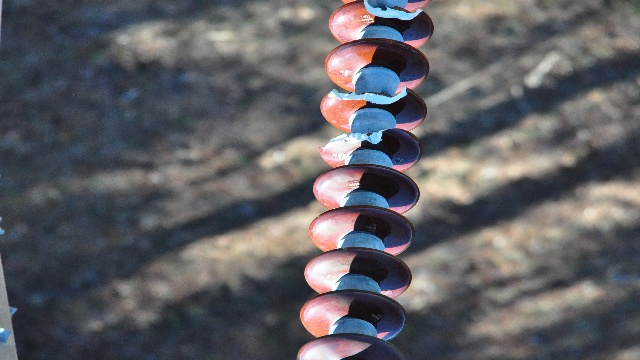broken_local: (315, 128, 394, 149), (328, 86, 413, 104), (361, 0, 425, 20)
insulator_unspecified: (295, 0, 433, 359)
